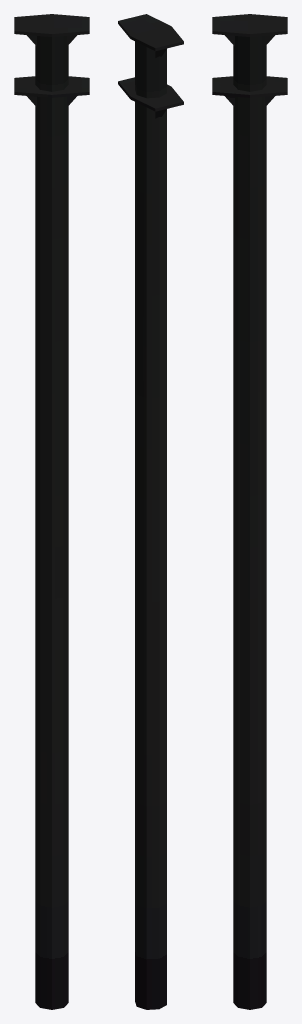
File: Highway_Segment_Sign_Struct00.fbx
The picture shows the model from 3 angles, left to right: view 1: azimuth 90°, elevation 25°; view 2: azimuth 210°, elevation 25°; view 3: azimuth 270°, elevation 25°; orthographic projection.
Parts seen in each view (by area): view 1: SM_City_Highway_Sign_Struct_01a.mo; view 2: SM_City_Highway_Sign_Struct_01a.mo; view 3: SM_City_Highway_Sign_Struct_01a.mo.
Part boxes in pixels (<box>): SM_City_Highway_Sign_Struct_01a.mo: <box>14,14,89,1009</box>; SM_City_Highway_Sign_Struct_01a.mo: <box>118,14,183,1009</box>; SM_City_Highway_Sign_Struct_01a.mo: <box>212,14,287,1009</box>.
Bounding box in the file's own units: 66.25 × 1505 × 105.
